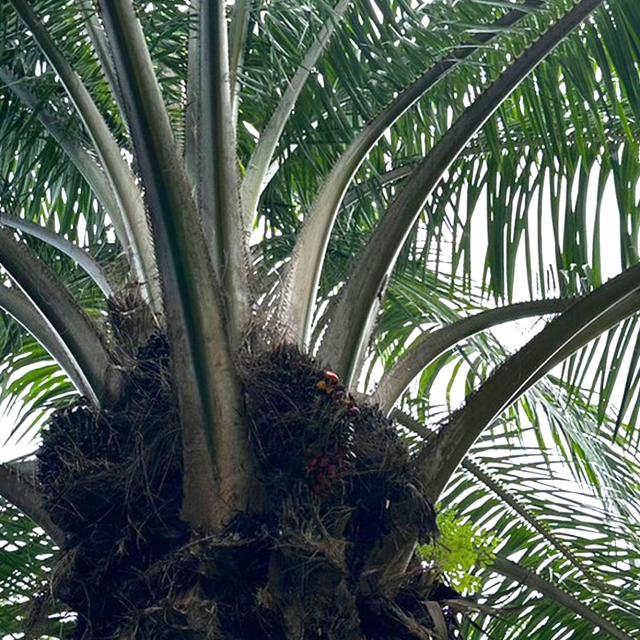ripe: (233, 335, 362, 497), (28, 400, 136, 539)
